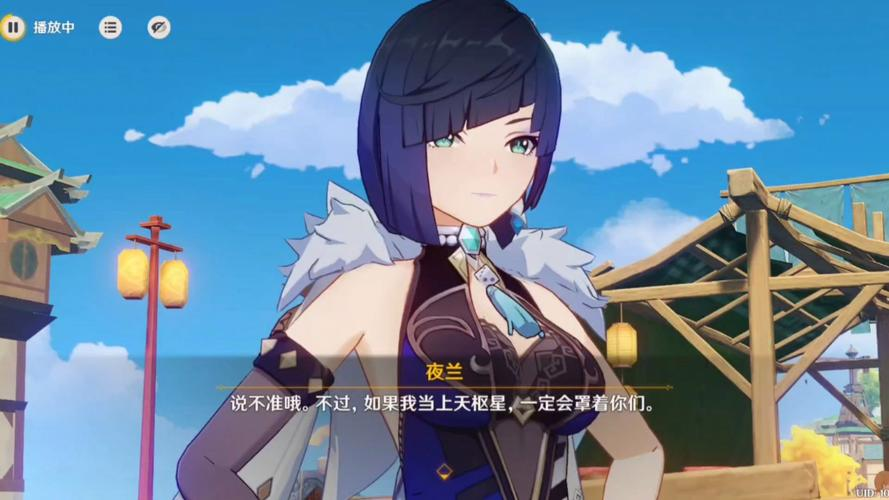夜兰: (178, 1, 668, 500)
